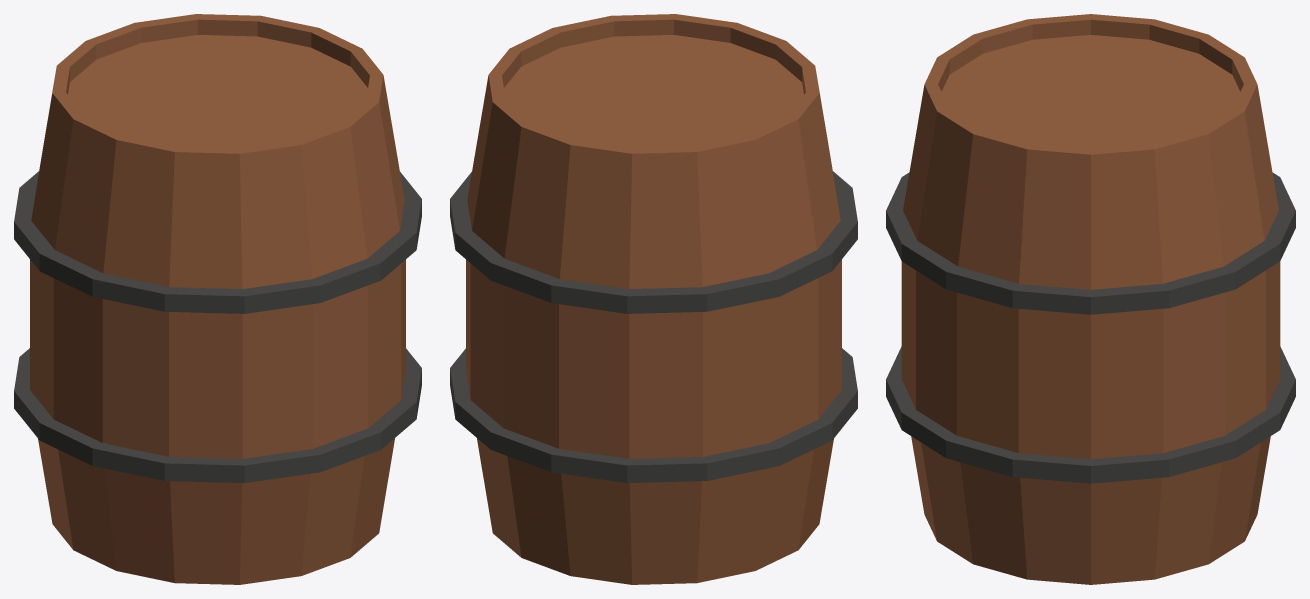
The model's file is barrel.fbx.
3 renders of one model, left to right at view 1: azimuth 30°, elevation 25°; view 2: azimuth 150°, elevation 25°; view 3: azimuth 270°, elevation 25°, orthographic.
Parts seen in each view (by area): view 1: Barrel; view 2: Barrel; view 3: Barrel.
Boxes of the visible parts, x1=… form: Barrel: x1=14, y1=14, x2=421, y2=584; Barrel: x1=450, y1=14, x2=857, y2=584; Barrel: x1=886, y1=14, x2=1295, y2=584.
Bounding box in the file's own units: 247 × 285 × 246.
